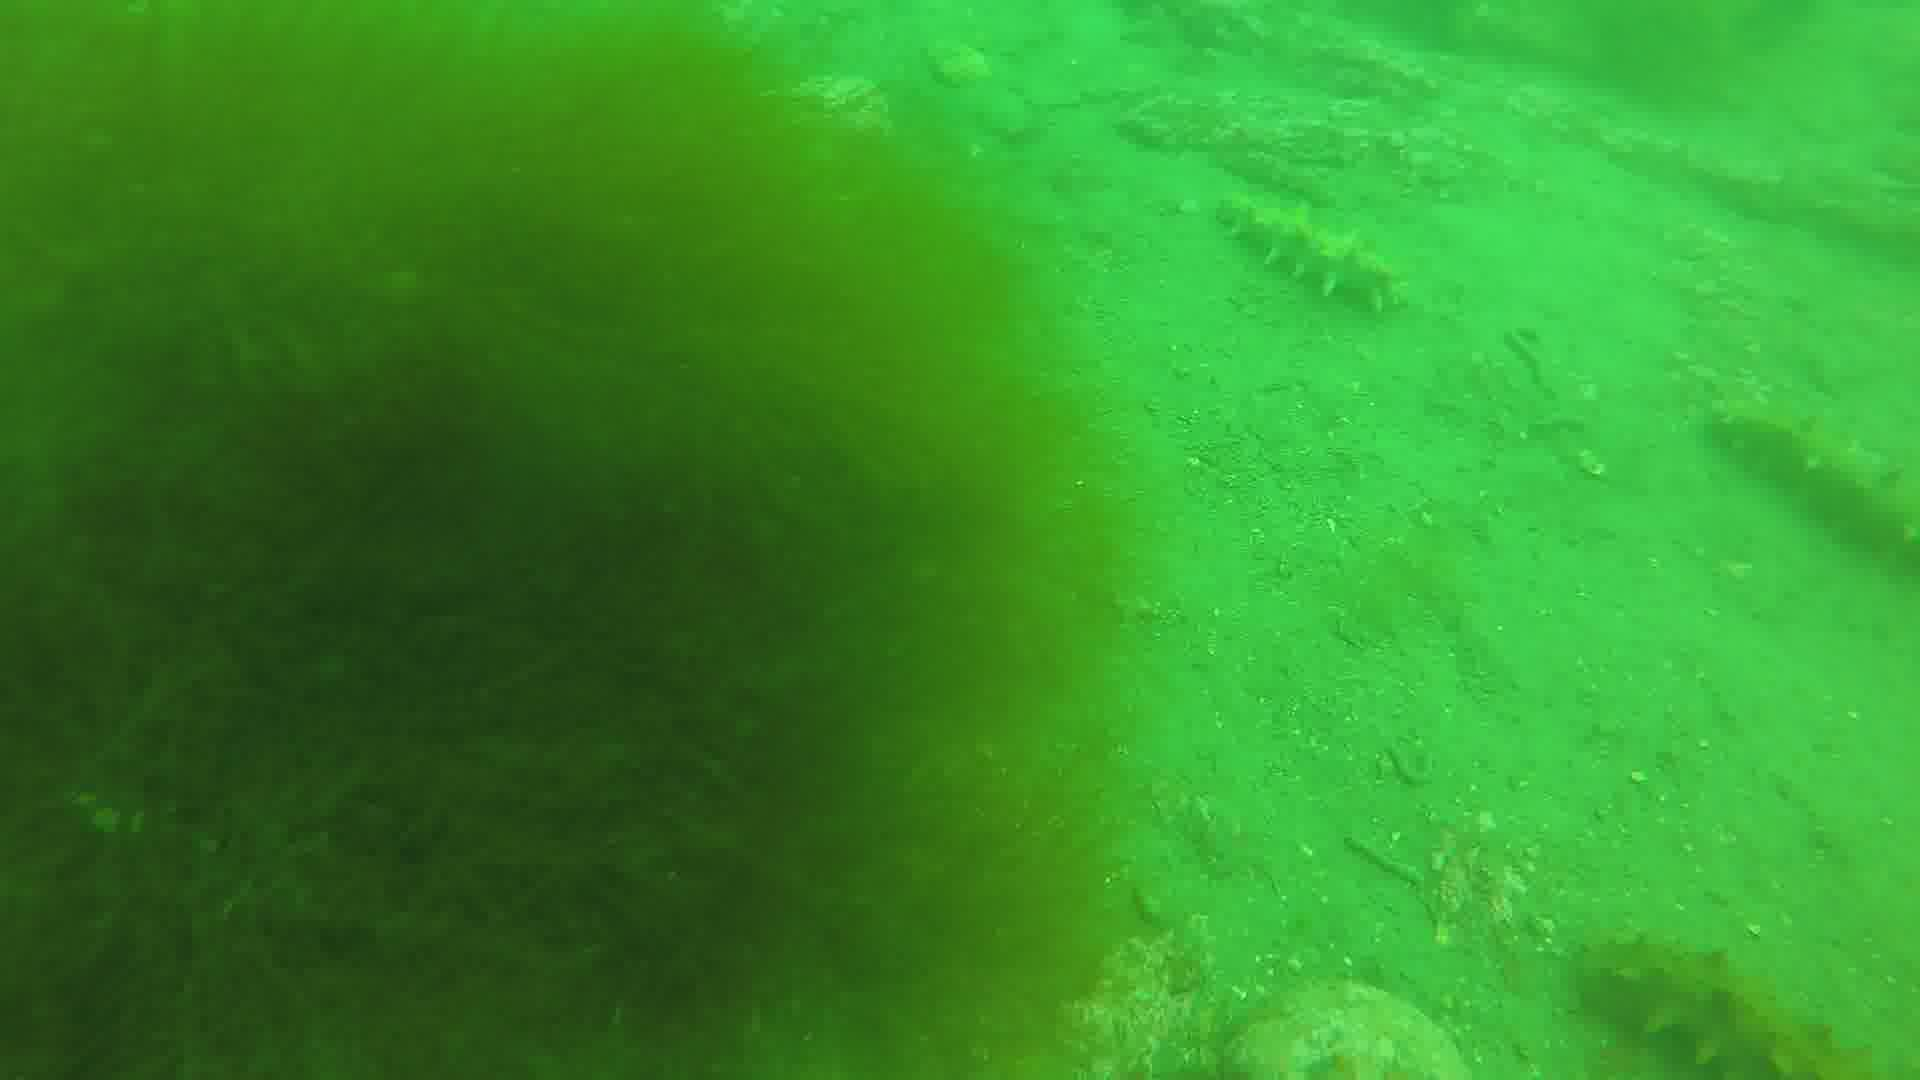holothurian: (1585, 934, 1896, 1080), (1714, 400, 1920, 582), (1215, 193, 1403, 309)
